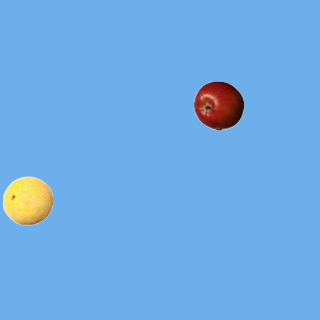Apple Braeburn: (193, 80, 243, 130)
Cantaloupe 1: (2, 175, 52, 225)
